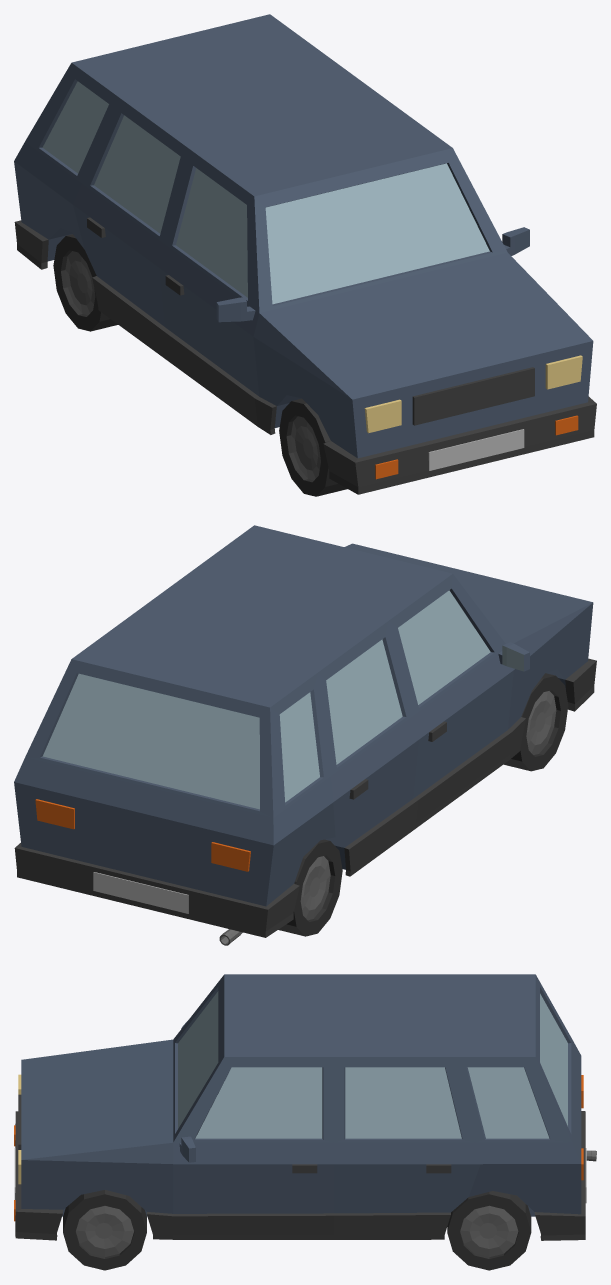
File: car-3.fbx
3 views of the same model, one above another, from view 1: azimuth 30°, elevation 25°; view 2: azimuth 150°, elevation 25°; view 3: azimuth 270°, elevation 25° (orthographic). The views are drawn at different scales.
Parts seen in each view (by area): view 1: Car3, Car3Wheel-FR, Car3Wheel-RR; view 2: Car3, Car3Wheel-RR, Car3Wheel-FR; view 3: Car3, Car3Wheel-FL, Car3Wheel-RL.
Boxes of the visible parts, x1,y1,x2,y2 form: Car3: (14,14,596,494); Car3Wheel-FR: (279,398,347,496); Car3Wheel-RR: (53,234,117,331); Car3: (14,525,596,945); Car3Wheel-RR: (278,839,342,936); Car3Wheel-FR: (504,673,568,771); Car3: (14,974,596,1240); Car3Wheel-FL: (63,1190,146,1270); Car3Wheel-RL: (447,1191,531,1270).
Size of the model in its own units: 202 by 149 by 385.
